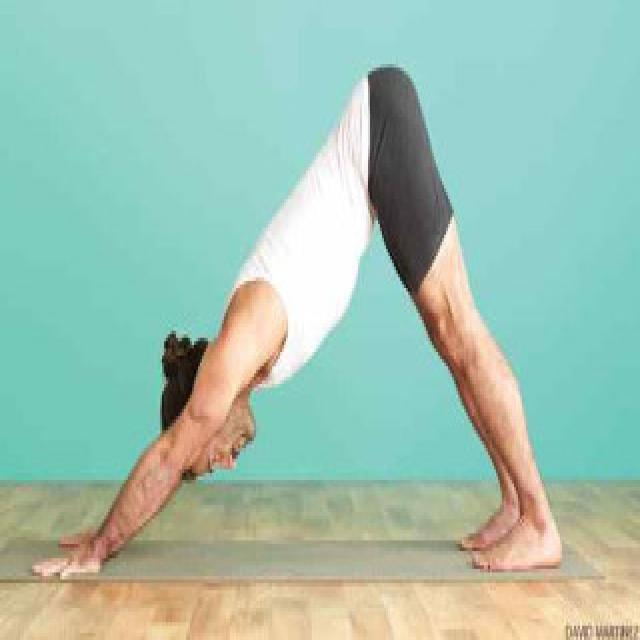yoga-pose downward: (39, 70, 568, 580)
